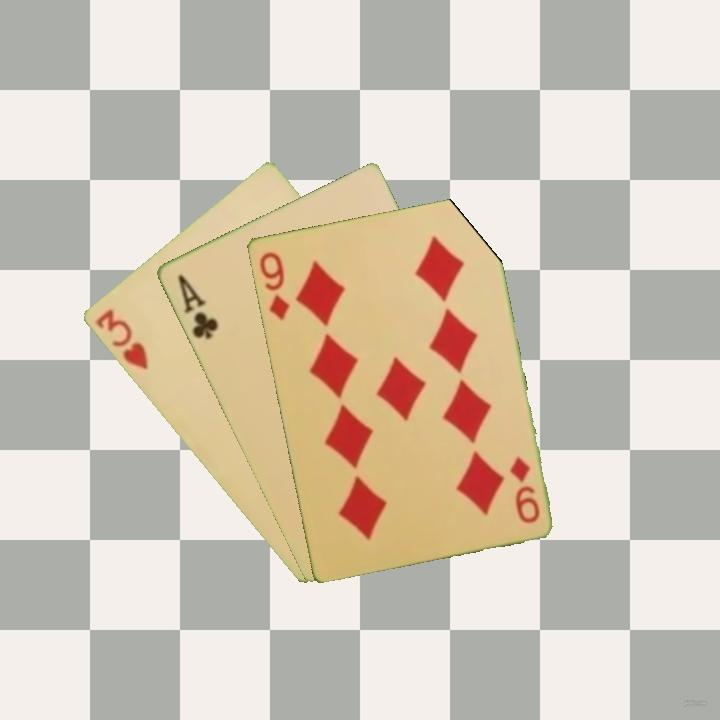3h: (91, 305, 151, 373)
9d: (255, 248, 292, 323), (506, 453, 542, 526)
Ac: (173, 270, 221, 342)
